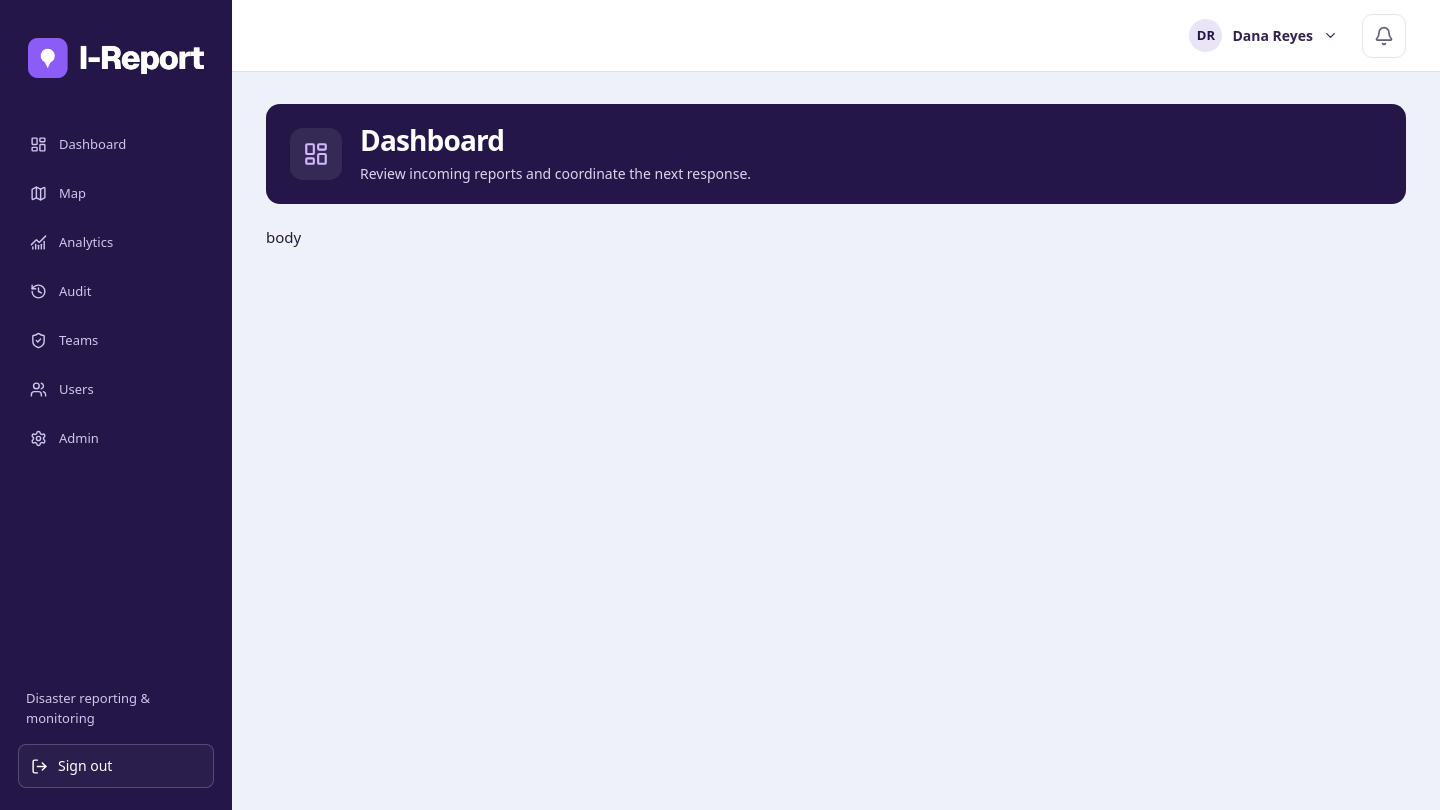
Test: AppShell profile photo › offers no Remove photo button when there is no photo
Click the button named "Open profile for Dana Reyes" at (1264, 36), box [1182, 14, 1346, 58]
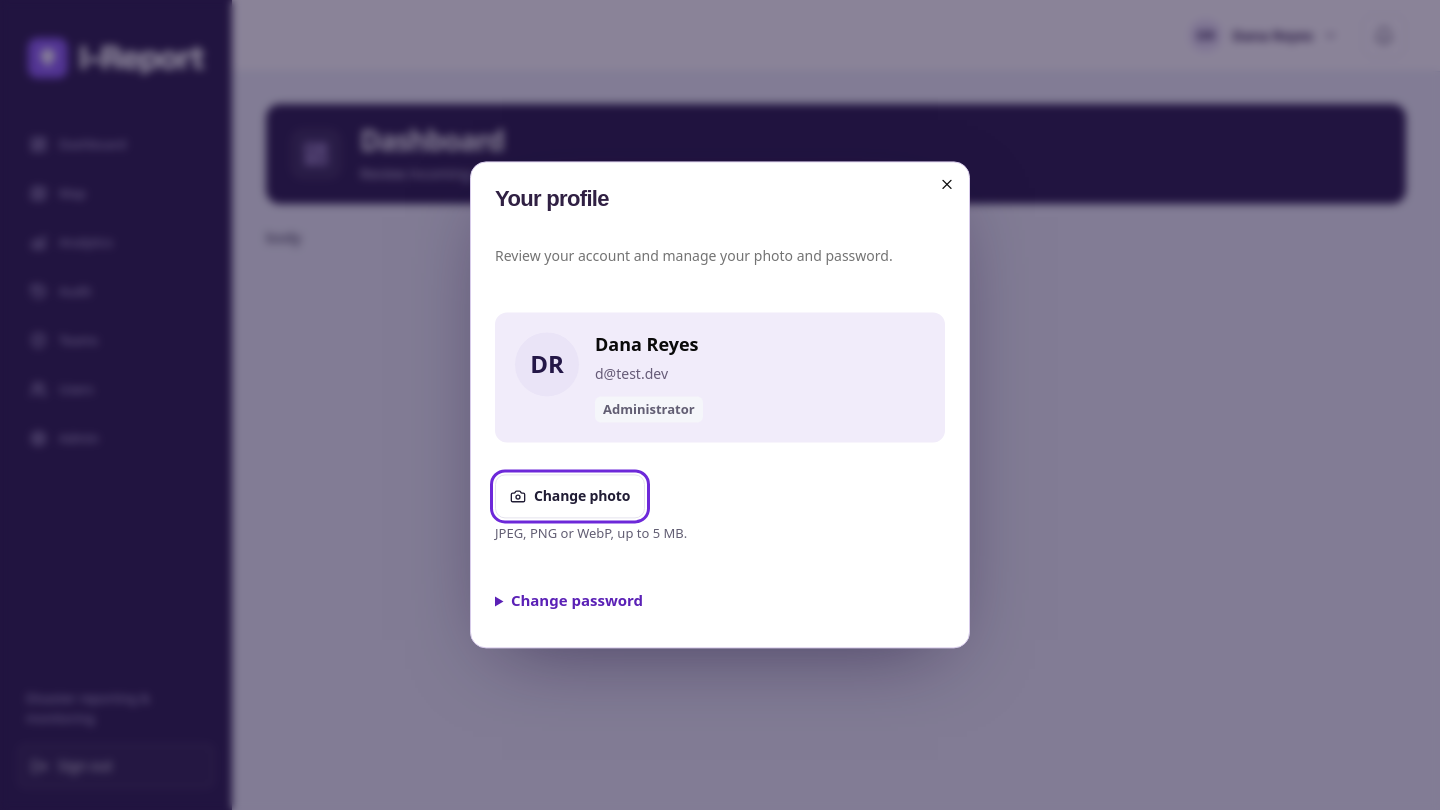
Expected: the button "Change photo" is shown, [495, 475, 645, 519]
